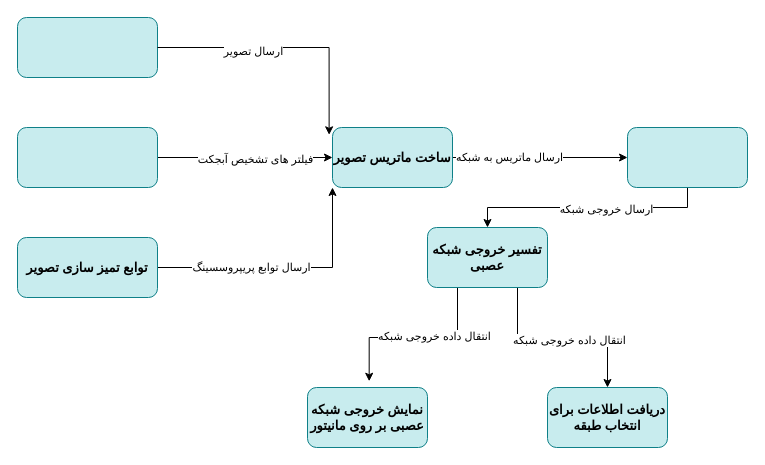
Some shapes in this 765 by 465 pixel diagram are drawn without their labels. Here are the shapes that lost their labels. From the top down, the box of each, then its label:
(16, 16, 158, 78): دوربین داخل آسانسور
(16, 126, 158, 188): فیلتر ها
(626, 126, 748, 188): شبکه عصبی
